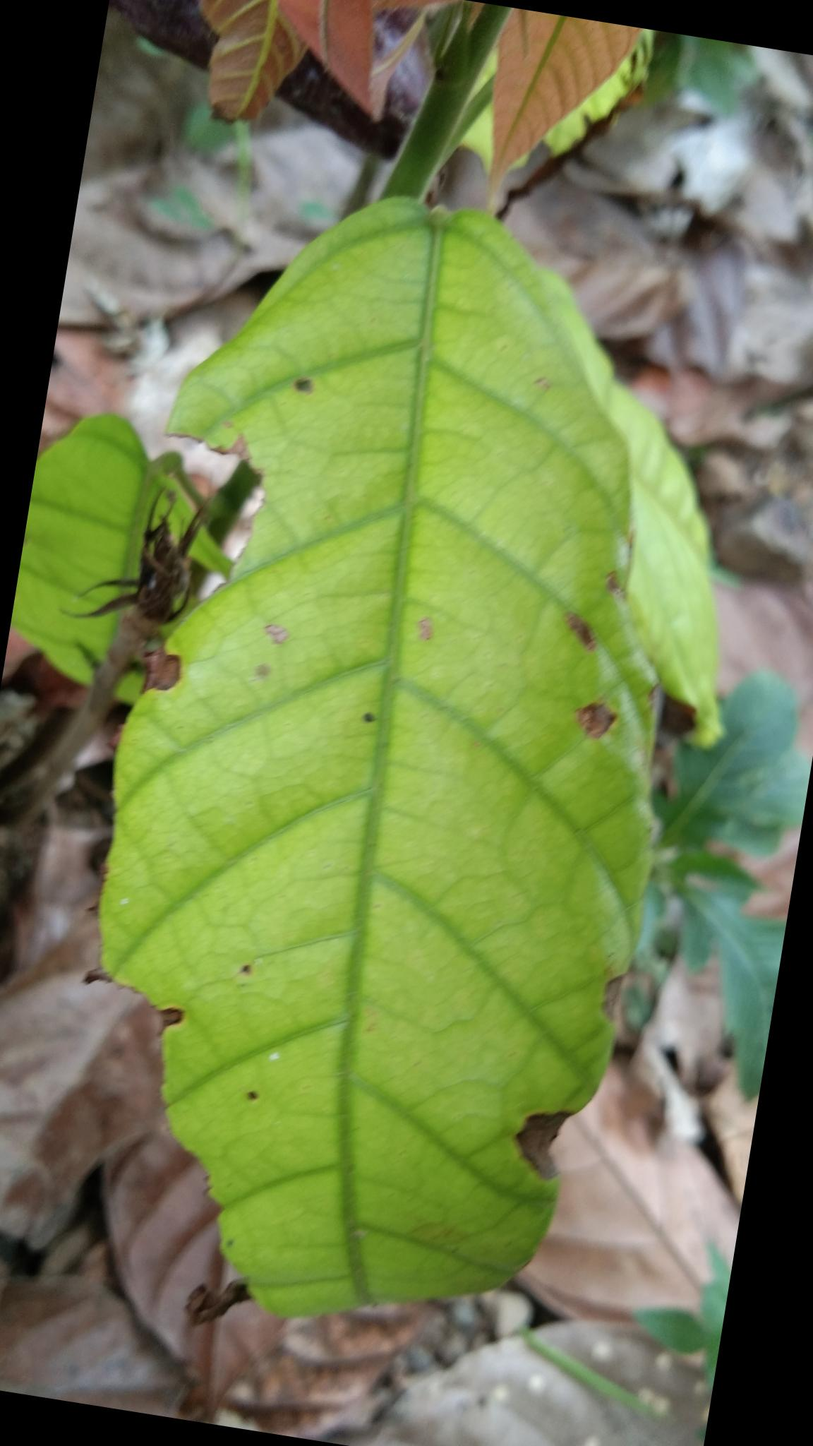Fosforo: (103, 192, 638, 1323)
